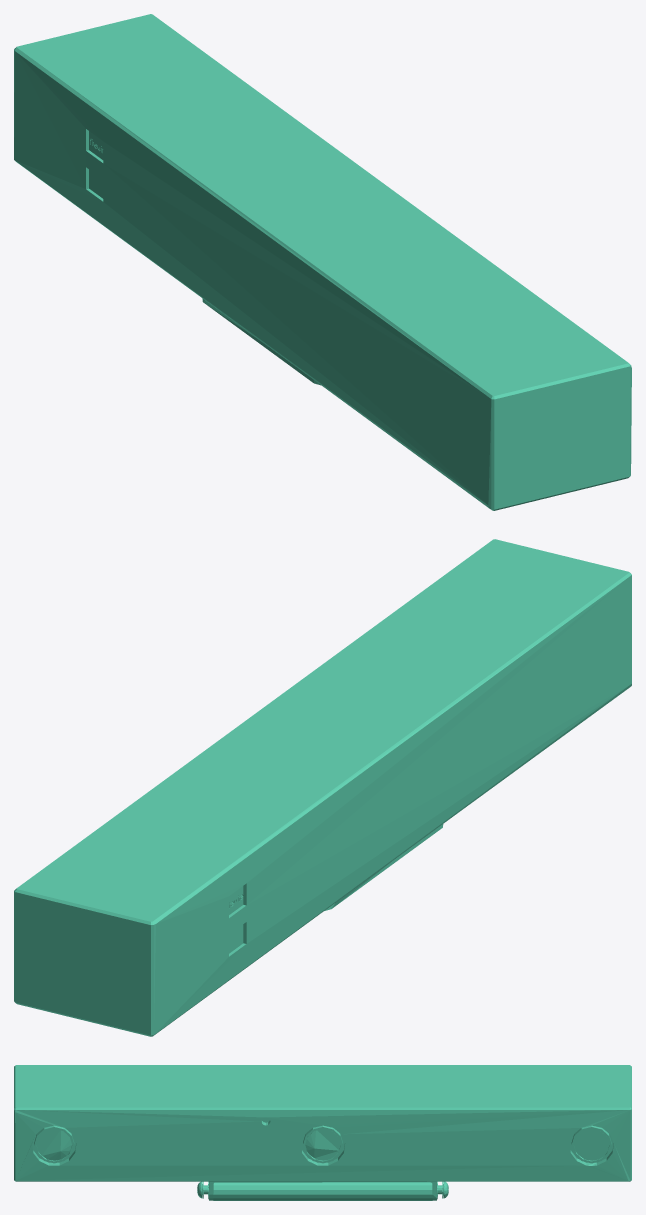
3 renders of one model, top to bottom at view 1: azimuth 30°, elevation 25°; view 2: azimuth 150°, elevation 25°; view 3: azimuth 270°, elevation 25°, orthographic. The views are drawn at different scales.
Visible parts, largest first — view 1: S3NEK_00_000_S3_2DOF_Bee_Shell; view 2: S3NEK_00_000_S3_2DOF_Bee_Shell; view 3: S3NEK_00_000_S3_2DOF_Bee_Shell.
Part boxes in pixels (x1,y1,x2,y2): S3NEK_00_000_S3_2DOF_Bee_Shell: (14, 14, 631, 510); S3NEK_00_000_S3_2DOF_Bee_Shell: (14, 539, 631, 1036); S3NEK_00_000_S3_2DOF_Bee_Shell: (14, 1065, 631, 1200).
Size of the model in its own units: 0.0474 by 0.276 by 0.0497.
